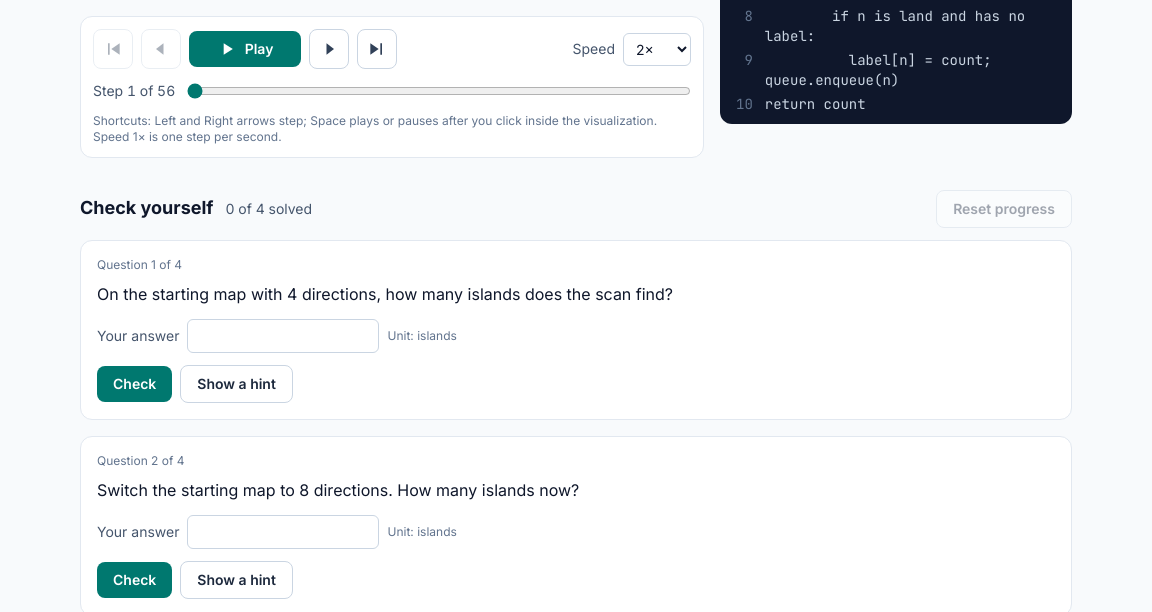
it: connected components lesson › checks practice answers with a hint
The image size is (1152, 612).
(page scrolled)
Type "7" into the field named "answer" at x=284, y=336, box top-left (188, 319), bottom-right (380, 353)
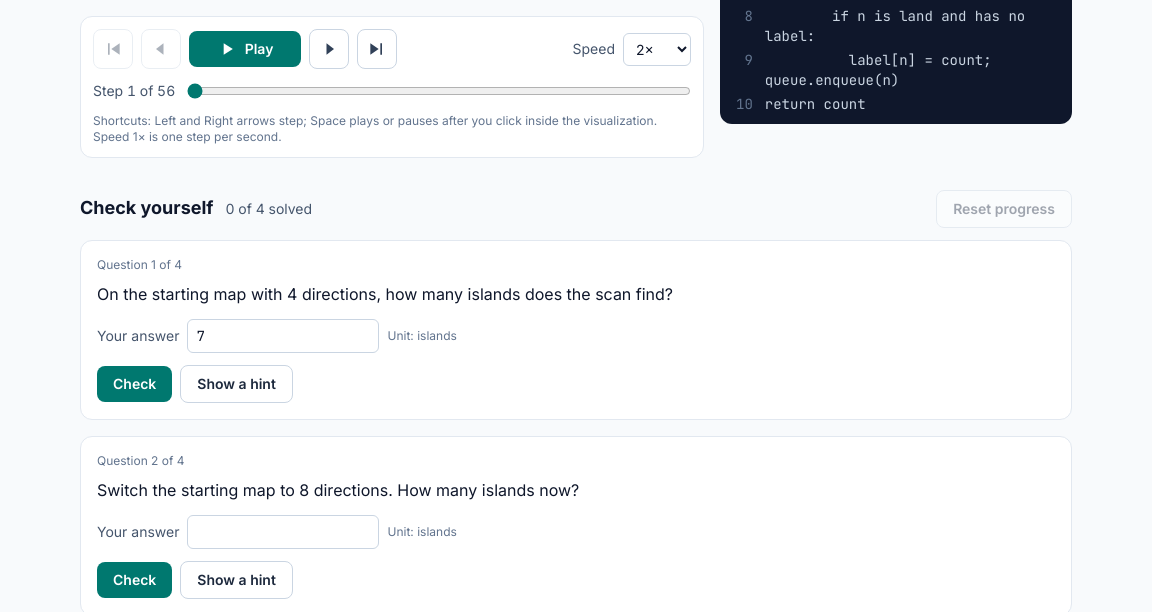
Submit the form "Your answer Unit: islands Check Show a hint" below "Question 1 of 4", box top-left (97, 319), bottom-right (457, 403)
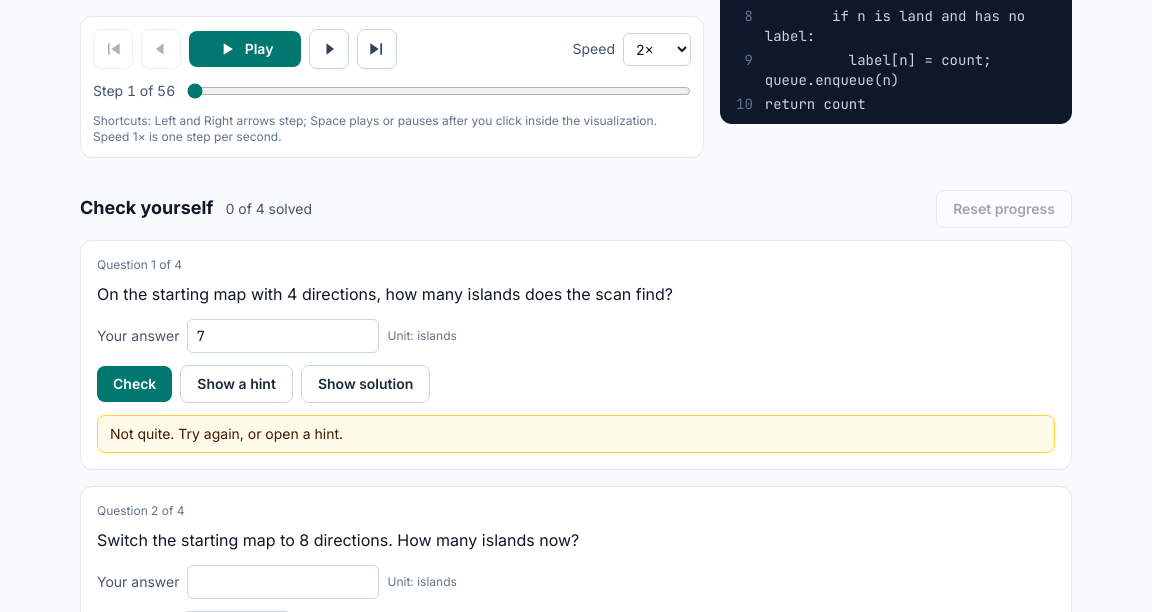
Expected: the list item that starts with "Question 1 of 4" shows "Not quite", top-left (110, 425), bottom-right (343, 442)
Click the button "Show a hint" below "Question 1 of 4" at x=237, y=384, box top-left (180, 365), bottom-right (293, 403)
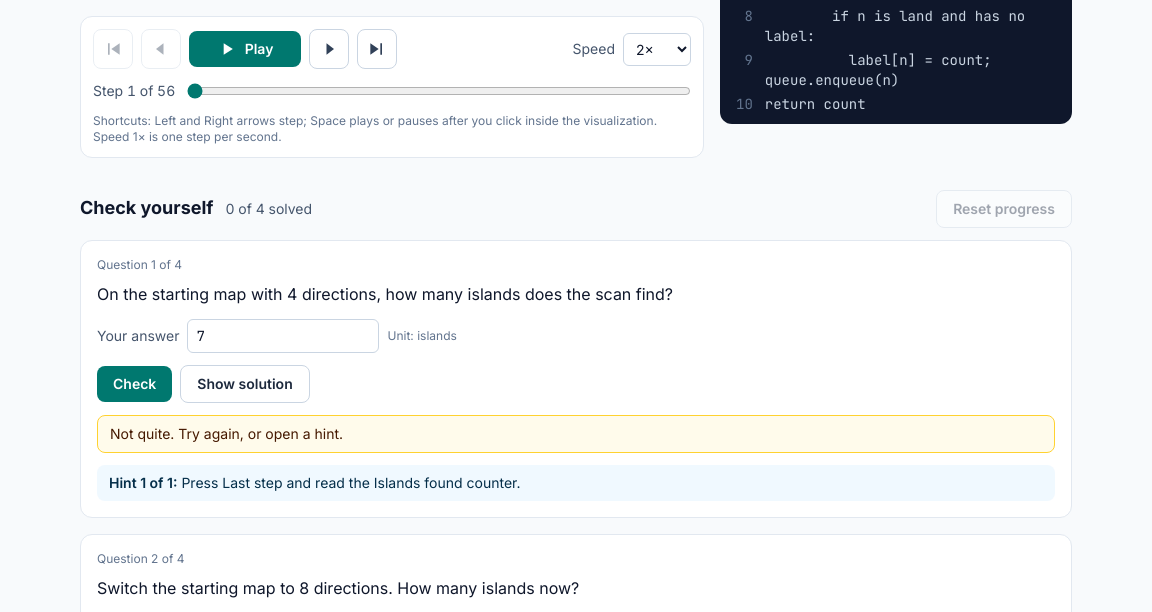
Expected: the list item that starts with "Question 1 of 4" shows "Press Last step and read the Islands found counter.", top-left (178, 474), bottom-right (521, 491)
Replace the text in the field named "answer" with "9" at x=284, y=336, box top-left (188, 319), bottom-right (380, 353)
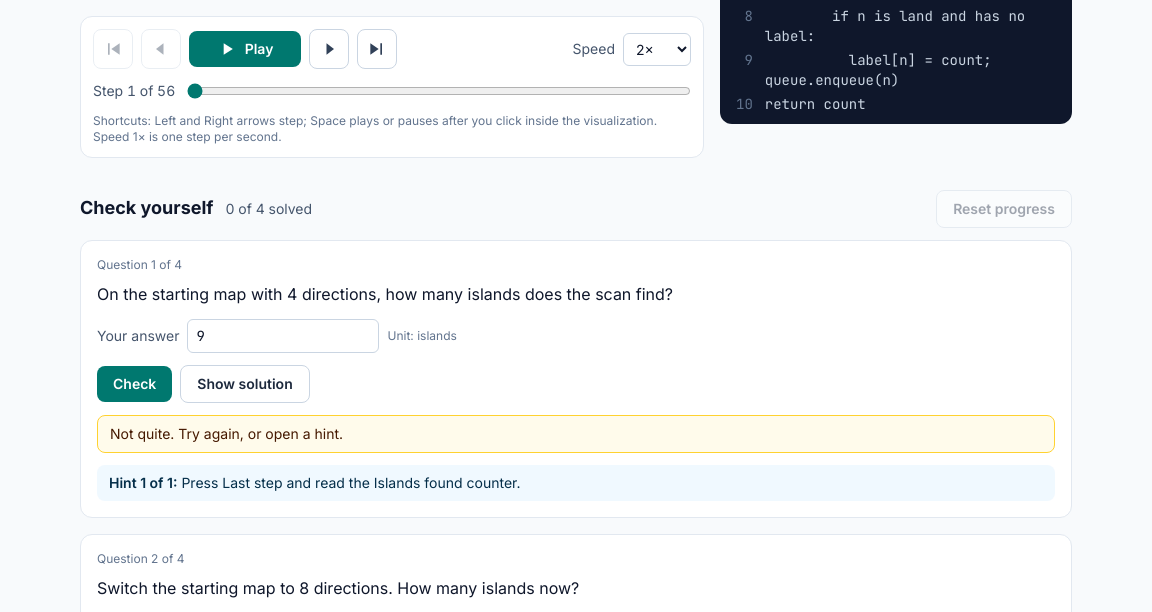
Submit the form "Your answer Unit: islands Check Show solution", box top-left (97, 319), bottom-right (457, 403)
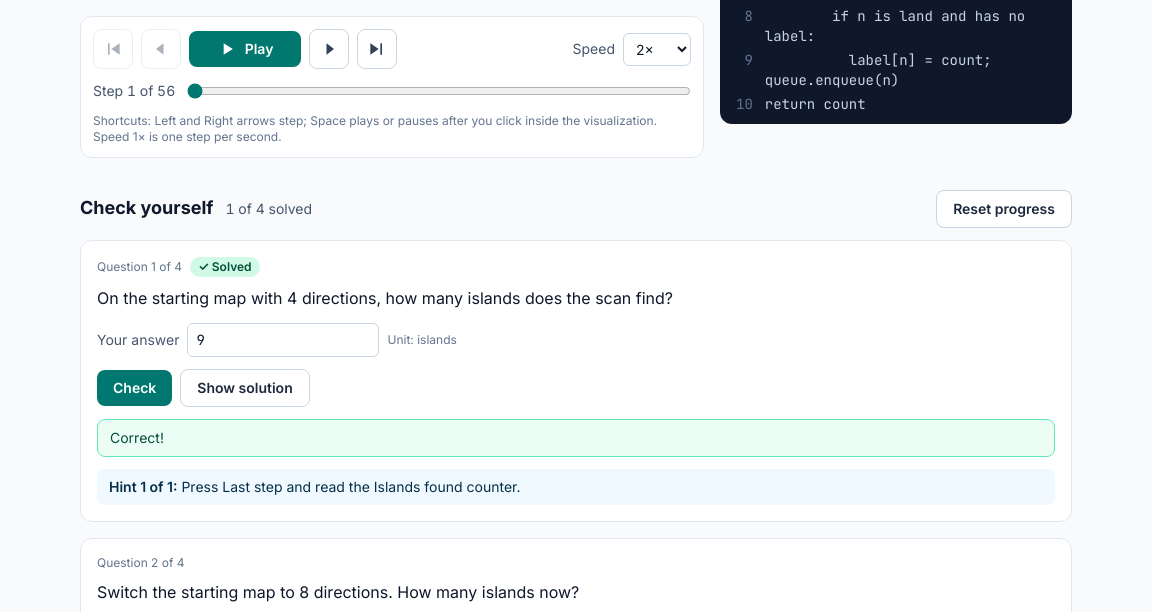
Expected: the list item that starts with "Question 1 of 4" shows "Correct!", top-left (110, 429), bottom-right (164, 446)
